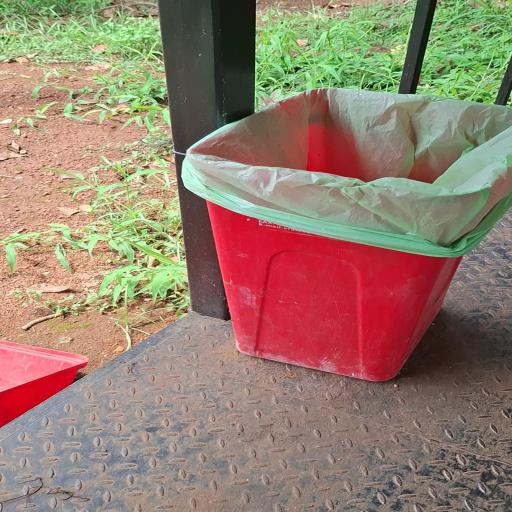Nilkamal-dustbin-detection: (181, 88, 512, 380), (183, 89, 512, 381)
